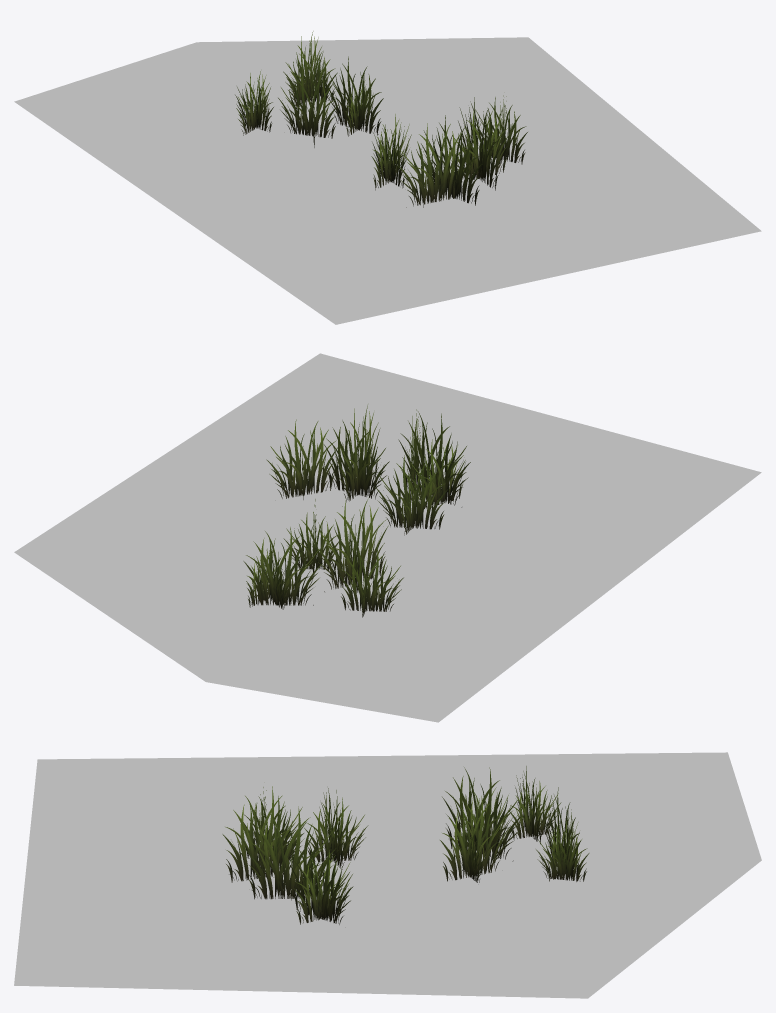
File: Mud_Decal_07.fbx
3 views of the same model, one above another, from view 1: azimuth 30°, elevation 25°; view 2: azimuth 150°, elevation 25°; view 3: azimuth 270°, elevation 25° (orthographic). The views are drawn at different scales.
Visible parts, largest first — view 1: Mud_Decal_07; view 2: Mud_Decal_07; view 3: Mud_Decal_07.
Boxes of the visible parts, bbox=[...] form: Mud_Decal_07: bbox=[14, 31, 761, 324]; Mud_Decal_07: bbox=[14, 353, 761, 722]; Mud_Decal_07: bbox=[14, 752, 761, 998].
Size of the model in its own units: 5.14 by 6.59 by 0.9507.
